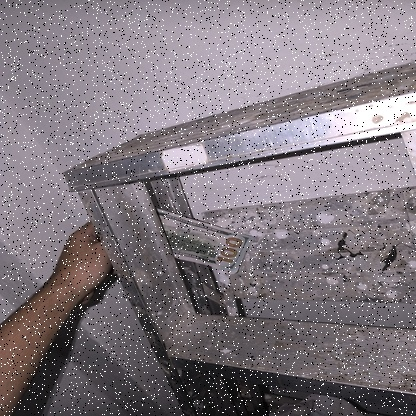one_hundred-back: (152, 204, 255, 277)
